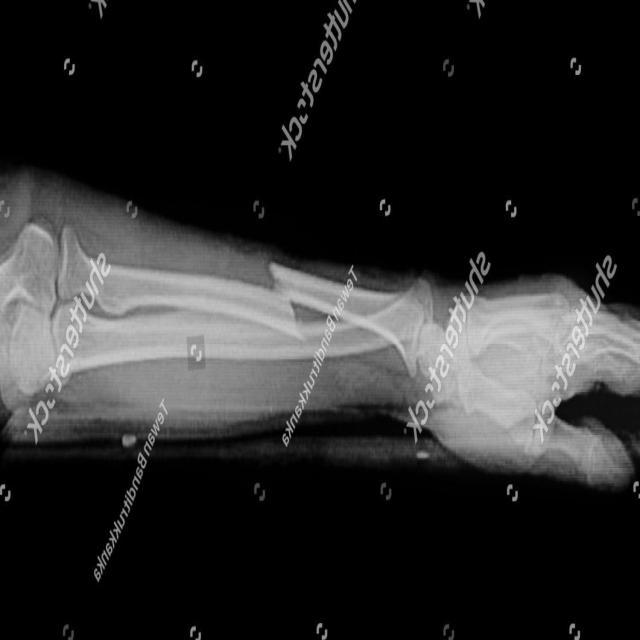bone: (258, 252, 302, 322)
